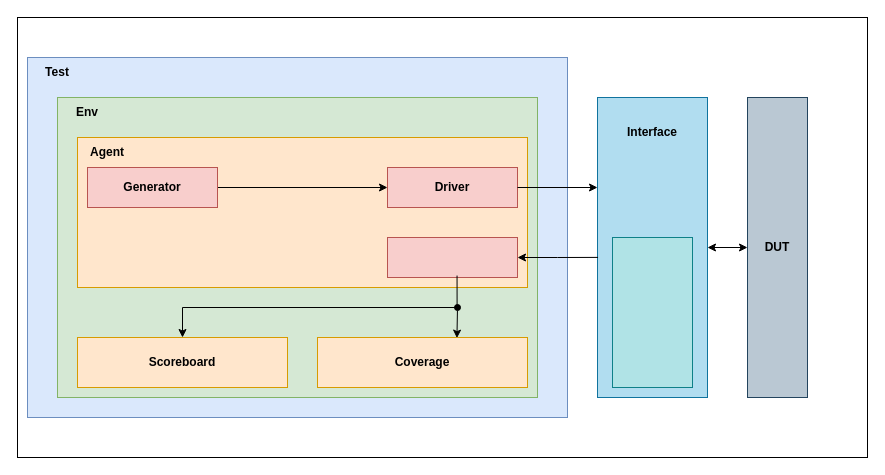
Some shapes in this 885 by 475 pixel diagram are drawn without their labels. The shapes that lost their labels are listed below. From the top down, each one's centre as x and y in pixels, then its label:
At (x=452, y=257): "Monitor".
At (x=652, y=312): "Assertion".
